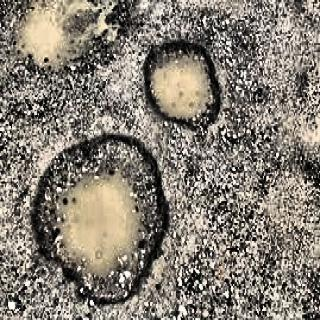pothole: (30, 123, 172, 320), (128, 16, 254, 132), (2, 0, 132, 76)
